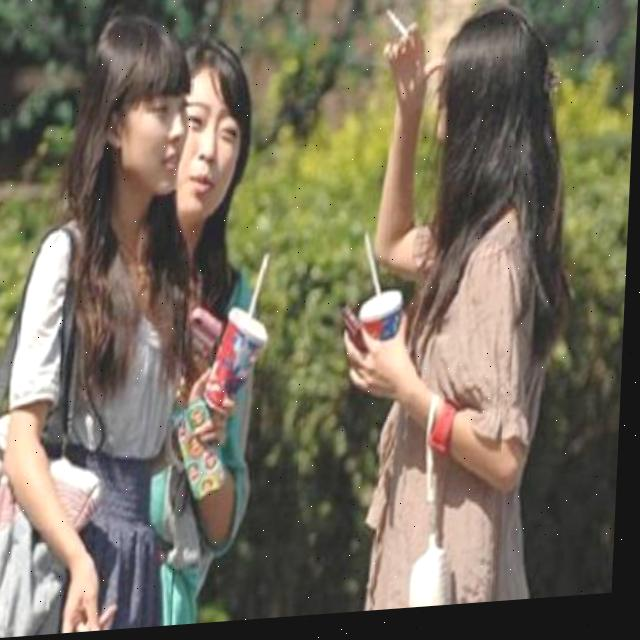cigarette: (384, 8, 409, 46)
